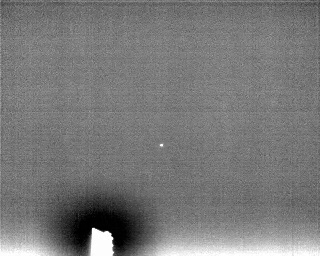BIRD: (158, 141, 166, 150)
